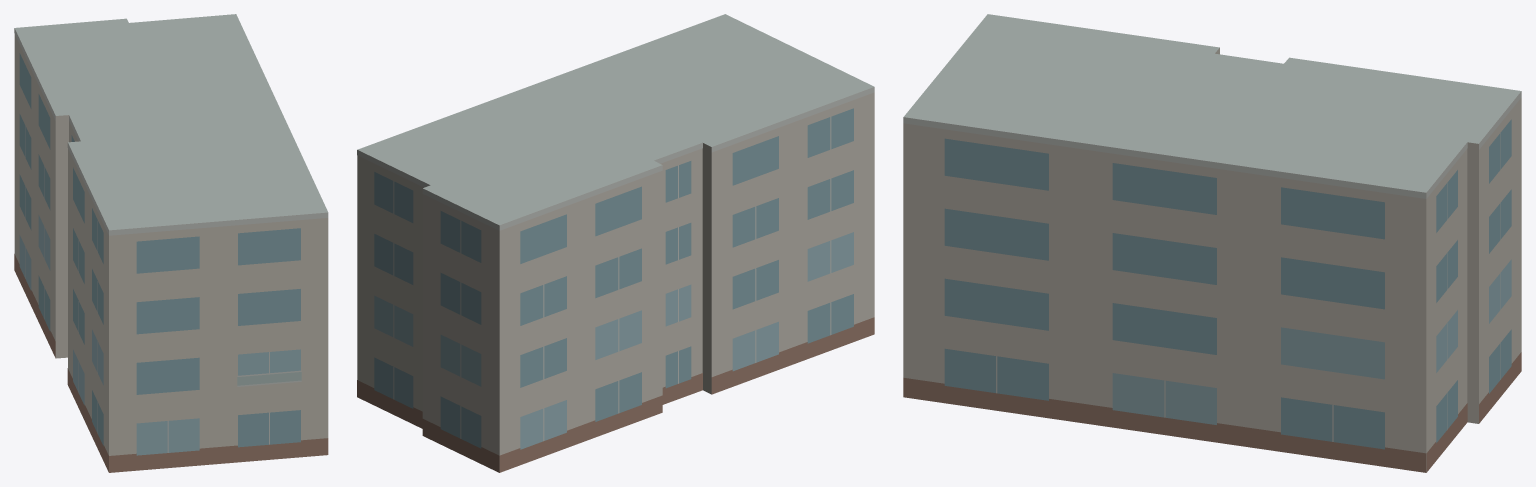
Rendered from survey-upis-32834710.glb.
3 renders of one model, left to right at view 1: azimuth 30°, elevation 25°; view 2: azimuth 150°, elevation 25°; view 3: azimuth 270°, elevation 25°, orthographic. The views are drawn at different scales.
Visible parts, largest first — view 1: survey-upis-32834710.tmp; view 2: survey-upis-32834710.tmp; view 3: survey-upis-32834710.tmp.
Part boxes in pixels (box(x1,y1,x2,y2)): survey-upis-32834710.tmp: box(14, 14, 328, 472); survey-upis-32834710.tmp: box(357, 14, 874, 472); survey-upis-32834710.tmp: box(903, 14, 1521, 472).
Bounding box in the file's own units: 15.06 × 11 × 22.01.
